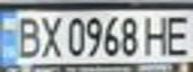0: (63, 14, 84, 57)
6: (103, 12, 124, 57)
8: (118, 12, 142, 57)
9: (84, 14, 106, 57)
B: (9, 12, 45, 59)
E: (160, 11, 193, 56)
H: (139, 12, 172, 56)
X: (36, 12, 63, 59)
